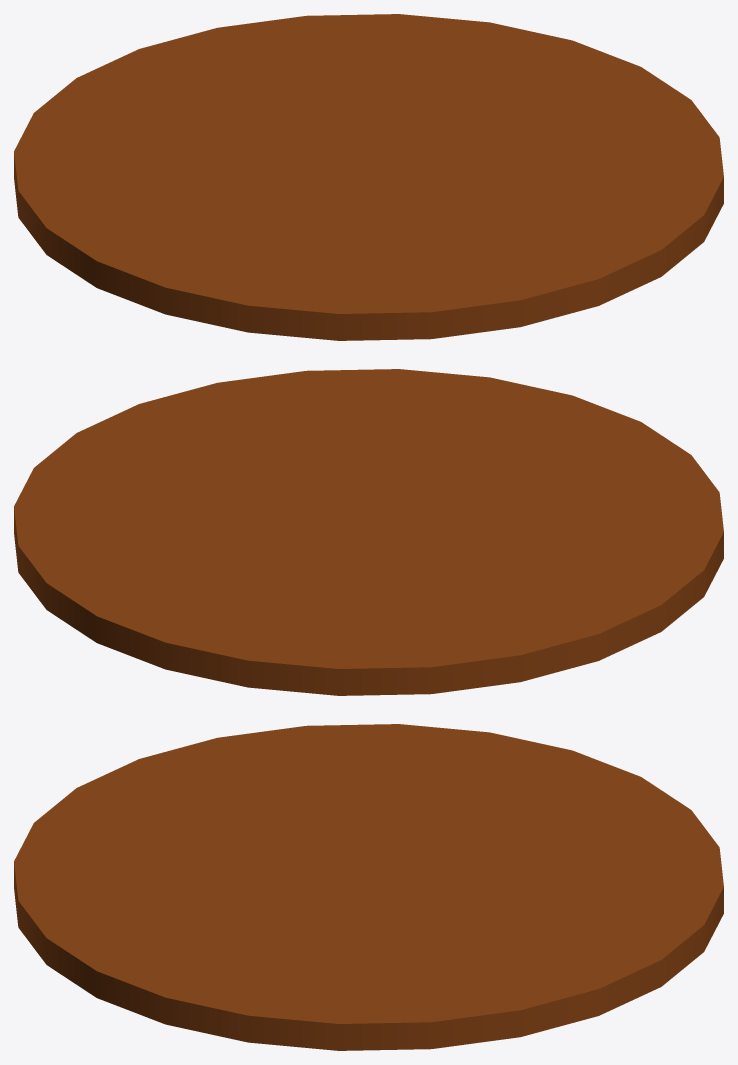
The model's file is original-41.obj.
The picture shows the model from 3 angles, top to bottom: view 1: azimuth 30°, elevation 25°; view 2: azimuth 150°, elevation 25°; view 3: azimuth 270°, elevation 25°; orthographic projection.
Visible parts, largest first — view 1: group_21/ID233#ID233; view 2: group_21/ID233#ID233; view 3: group_21/ID233#ID233.
Boxes of the visible parts, x1,y1,x2,y2 form: group_21/ID233#ID233: (14,14,723,340); group_21/ID233#ID233: (14,369,723,695); group_21/ID233#ID233: (14,724,723,1050).
Bounding box in the file's own units: 0.0839 × 0.00351 × 0.0839.
